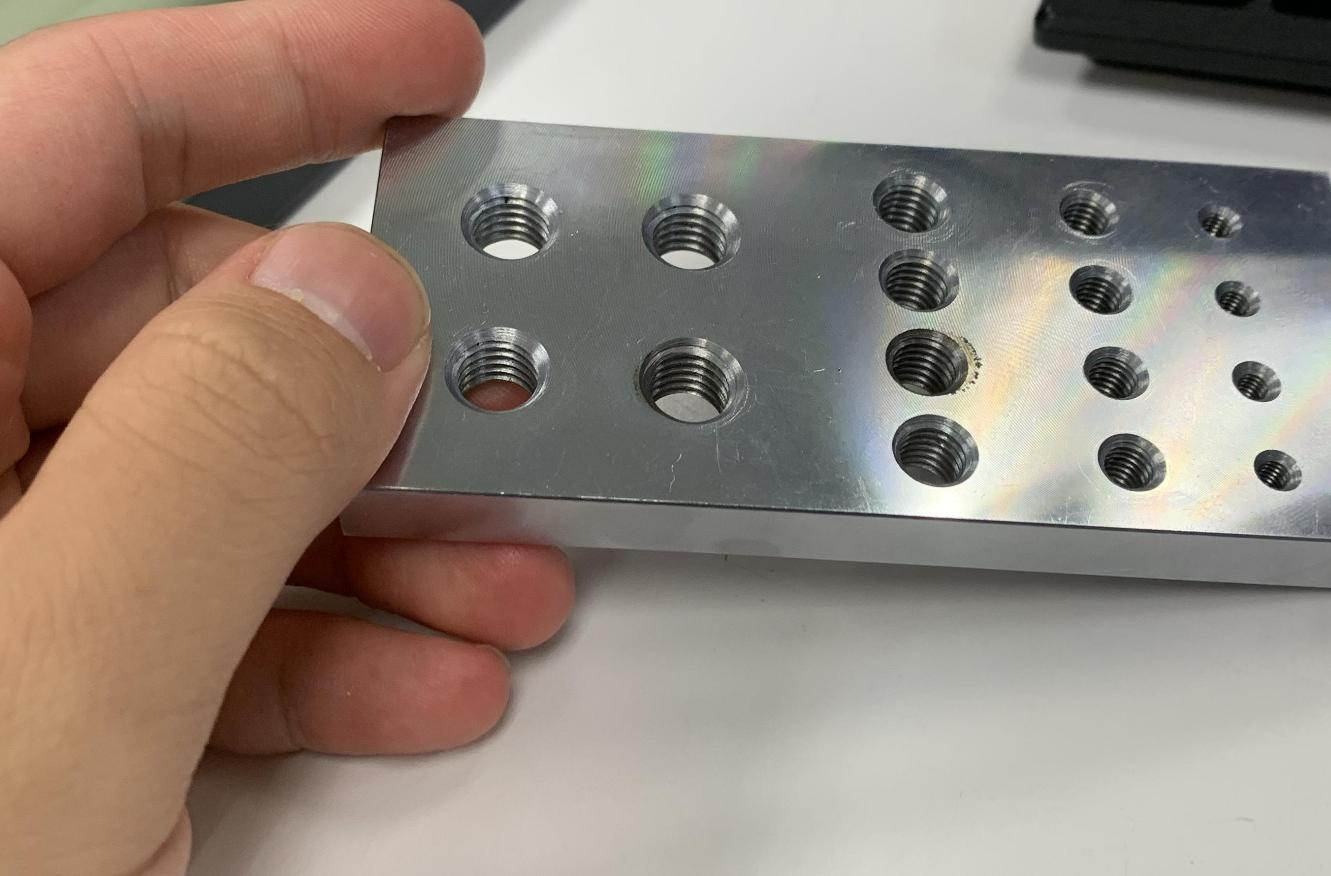hole: (428, 310, 564, 432), (625, 320, 763, 438), (454, 158, 572, 272), (634, 184, 756, 292), (874, 321, 996, 405), (882, 410, 994, 496), (870, 246, 984, 318), (860, 162, 966, 238), (1086, 419, 1178, 503), (1044, 171, 1142, 249), (1053, 252, 1147, 322), (1210, 347, 1300, 419), (1075, 342, 1163, 406), (1238, 438, 1318, 504), (1186, 190, 1256, 256), (1205, 270, 1273, 328)
